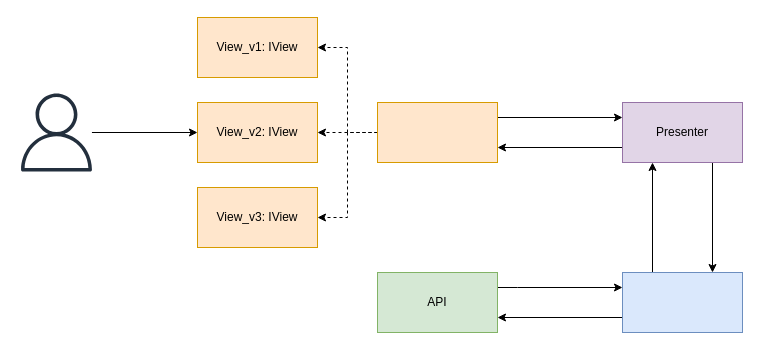
Image size: 760x350. Some labels were removed from this diagram. The centre of each missing label's shape, as x and y in pixels:
"IView (Interface)" goes at (x=437, y=132).
"Model" goes at (x=682, y=302).
"User" goes at (x=56, y=132).
